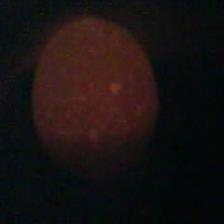fertile: (32, 15, 160, 182)
